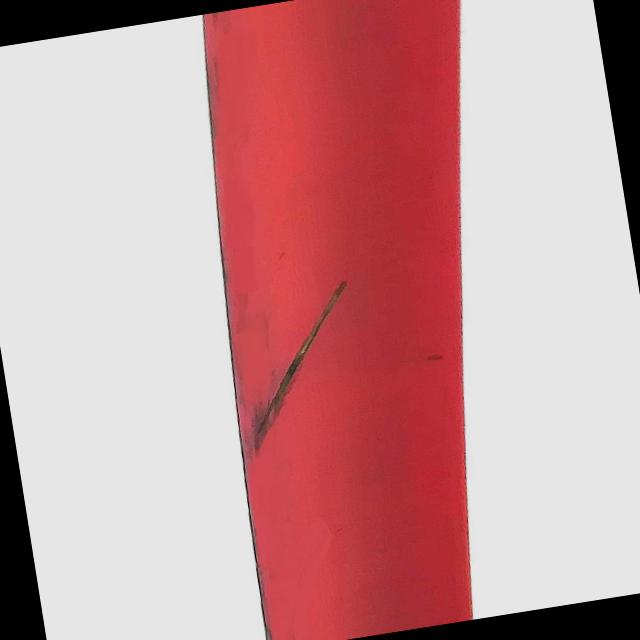crack: (235, 279, 372, 436)
